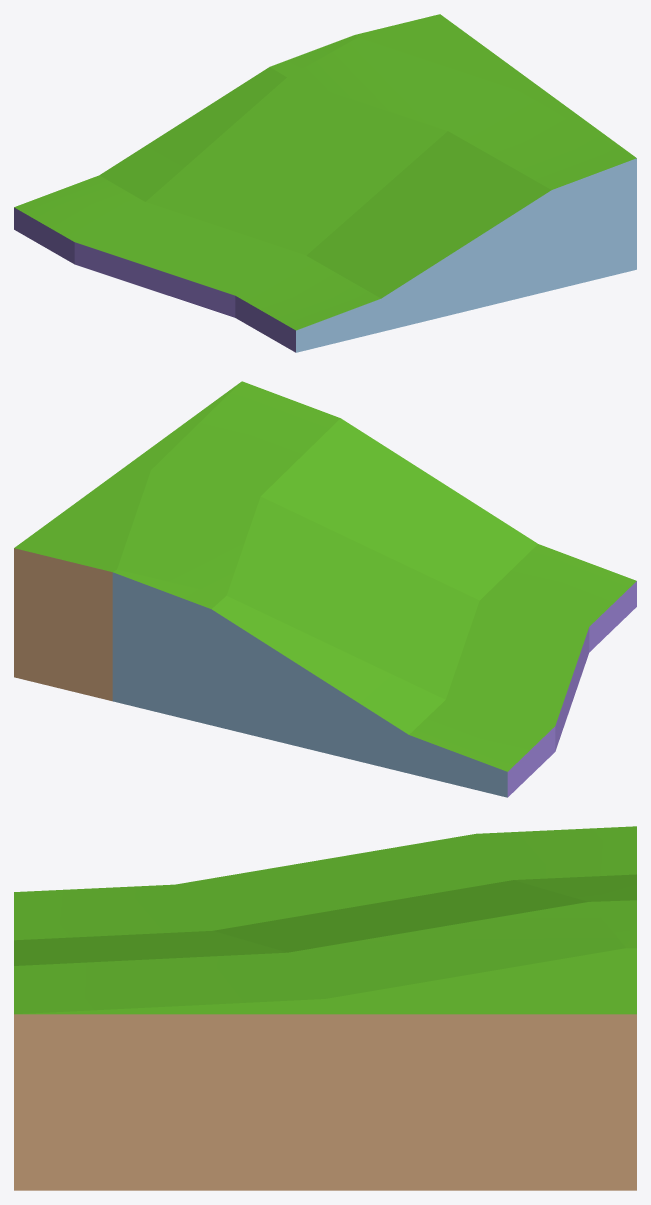
The model's file is Grass_Hill_Gentle_Esse_4x5.glb.
3 renders of one model, top to bottom at view 1: azimuth 30°, elevation 25°; view 2: azimuth 150°, elevation 25°; view 3: azimuth 270°, elevation 25°, orthographic. The views are drawn at different scales.
Parts seen in each view (by area): view 1: Grass_Hill_Gentle_Esse_4x5; view 2: Grass_Hill_Gentle_Esse_4x5; view 3: Grass_Hill_Gentle_Esse_4x5.
Boxes of the visible parts, x1,y1,x2,y2 form: Grass_Hill_Gentle_Esse_4x5: [14, 14, 636, 352]; Grass_Hill_Gentle_Esse_4x5: [14, 381, 636, 797]; Grass_Hill_Gentle_Esse_4x5: [14, 826, 636, 1190].
Bounding box in the file's own units: 500 × 125 × 400.
